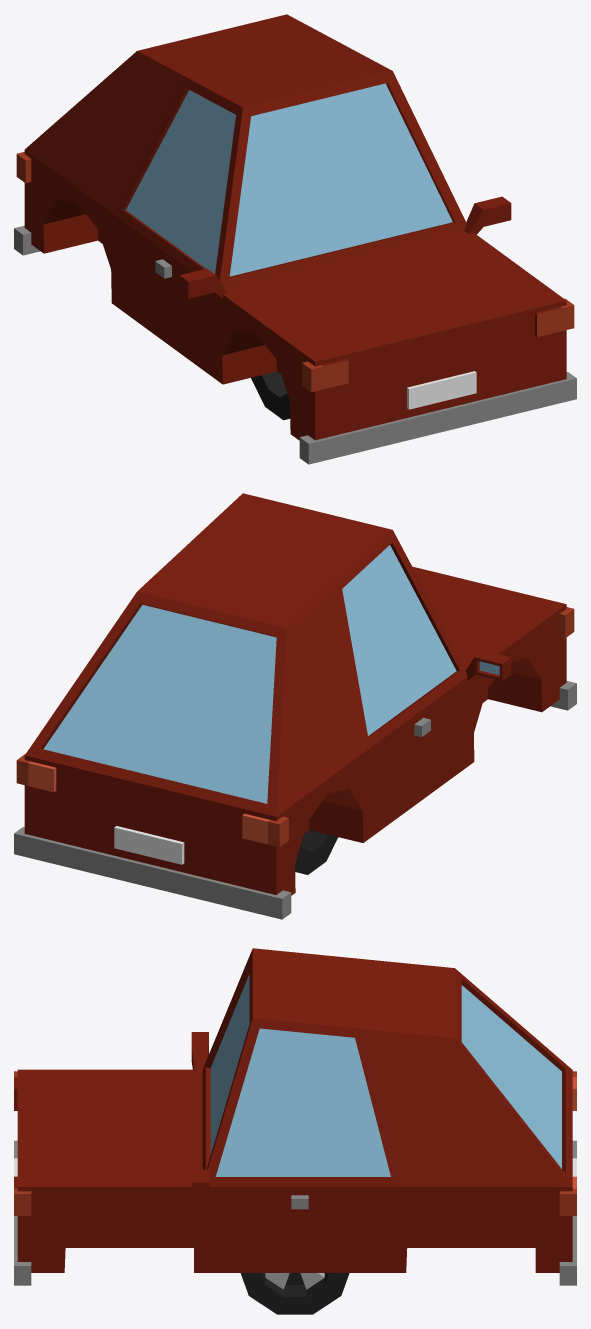
File: RedCar.fbx
3 renders of one model, top to bottom at view 1: azimuth 30°, elevation 25°; view 2: azimuth 150°, elevation 25°; view 3: azimuth 270°, elevation 25°, orthographic. The views are drawn at different scales.
Visible parts, largest first — view 1: Cube, Wheel; view 2: Cube, Wheel; view 3: Cube, Wheel.
Boxes of the visible parts, x1,y1,x2,y2 form: Cube: [14, 14, 576, 464]; Wheel: [251, 371, 290, 420]; Cube: [14, 493, 576, 919]; Wheel: [295, 830, 338, 874]; Cube: [14, 948, 576, 1285]; Wheel: [240, 1273, 349, 1314].
Size of the model in its own units: 257 by 255 by 406.
